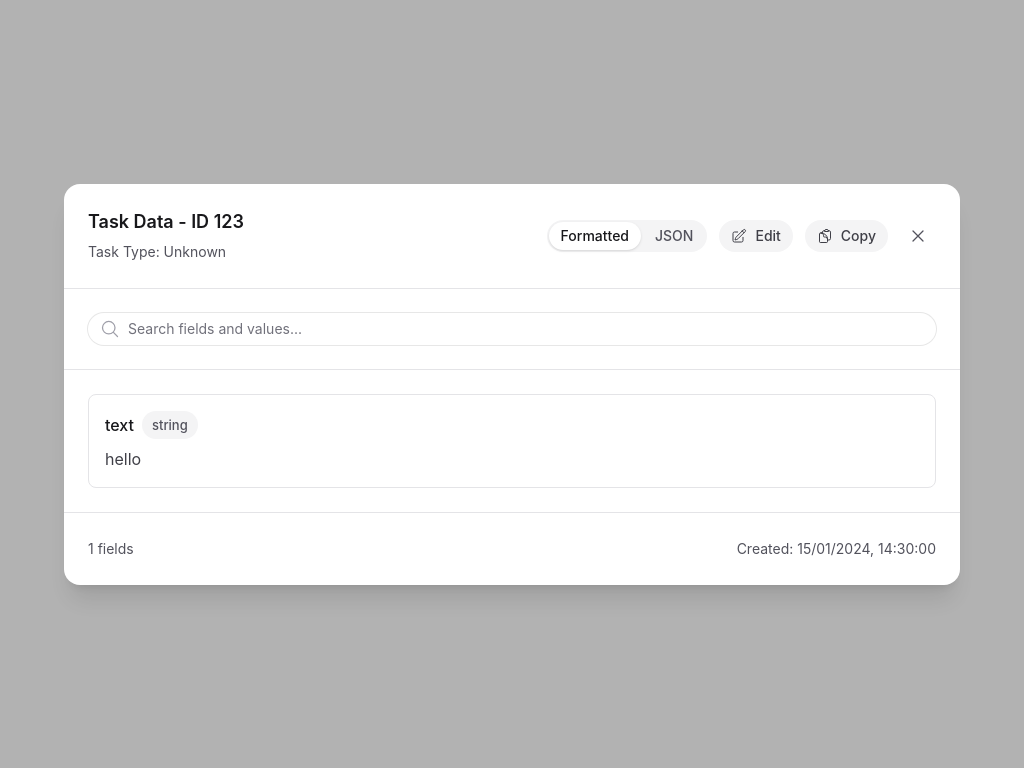
Test case: TaskDataViewModal › should show the Edit button and enter edit mode when canEdit is true
The image size is (1024, 768).
expect the search field with placeholder "Search fields and values..." is shown: met, box [88, 312, 936, 344]
expect the button "Save" is not shown: met
Click the button "Edit": (756, 236) [719, 220, 793, 252]
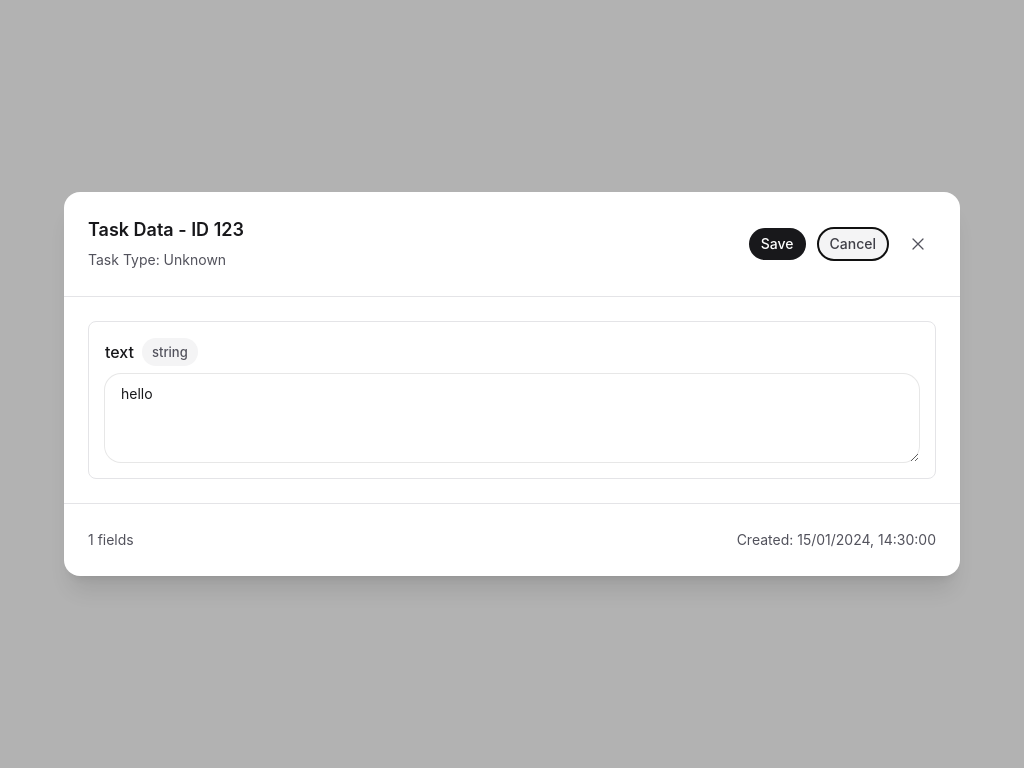
expect the text box holds "hello": met, box [105, 374, 919, 462]
expect the button "Save" is shown: met, box [749, 228, 806, 260]
expect the button "Cancel" is shown: met, box [818, 228, 888, 260]
